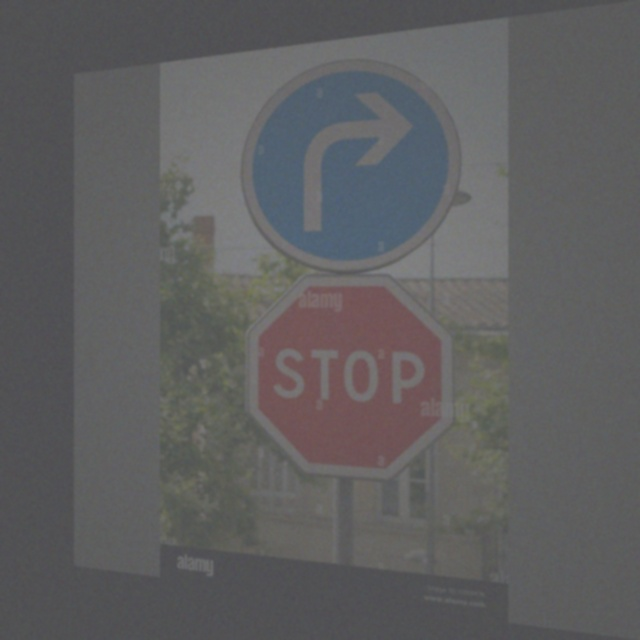Compulsory_Turn_Right_Ahead: (241, 48, 465, 271)
